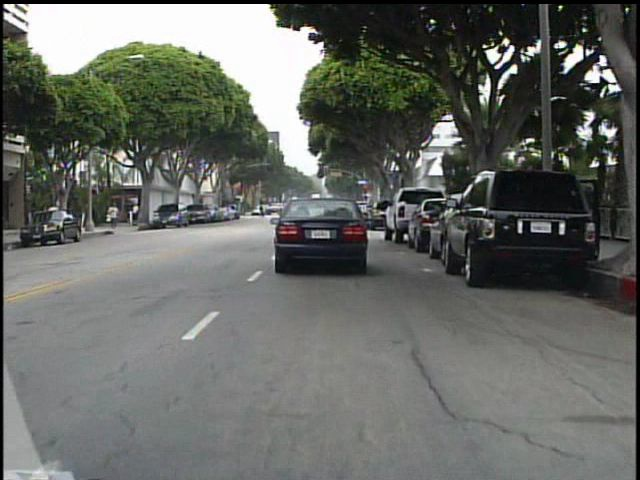person: (108, 200, 123, 231), (132, 200, 142, 228), (258, 200, 270, 221)
